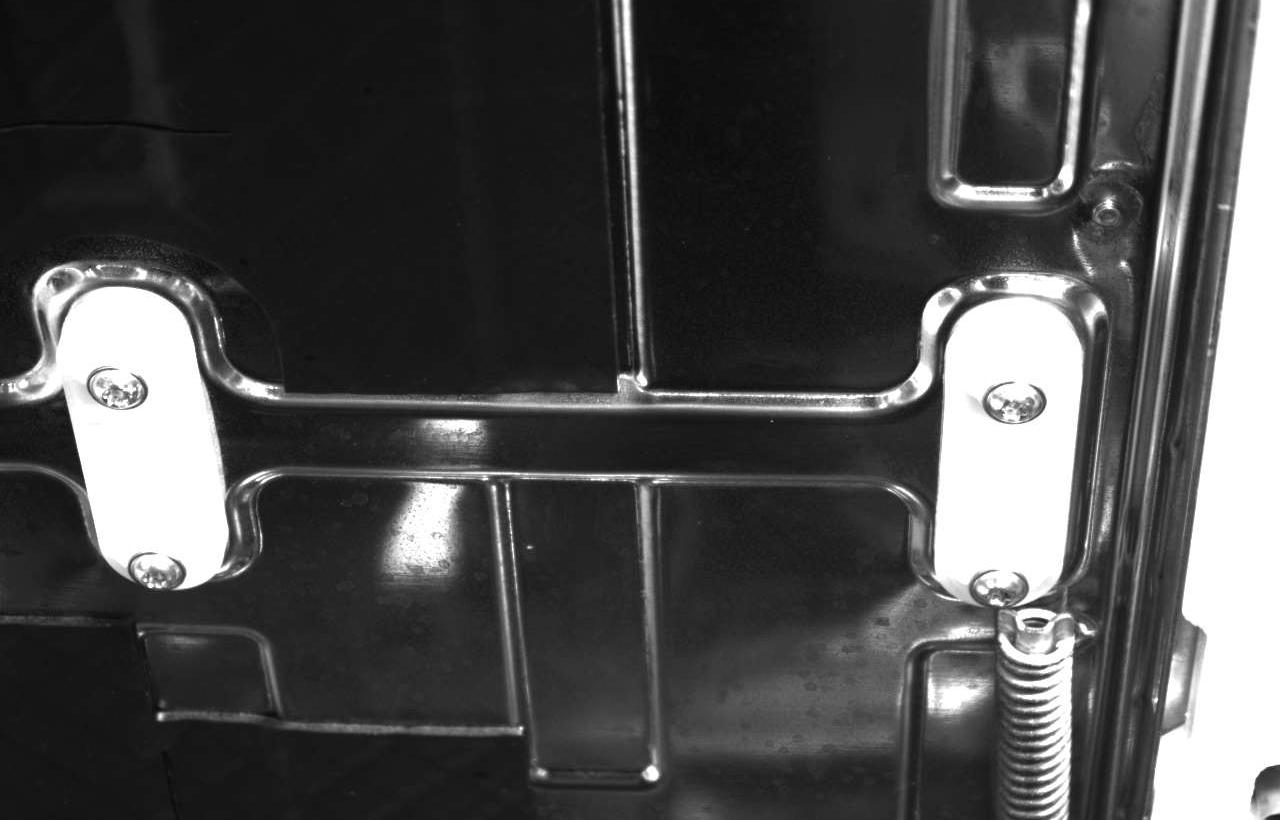vida-ok: (81, 349, 167, 427), (966, 361, 1054, 433), (113, 539, 194, 603), (957, 558, 1032, 617)
